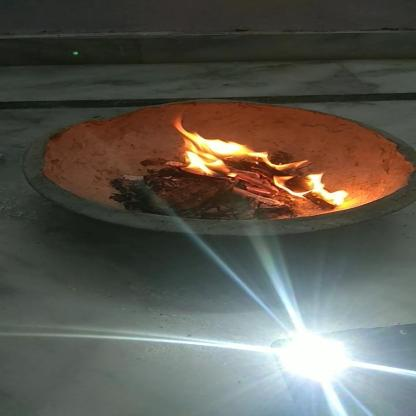fire: (166, 116, 274, 182), (292, 168, 353, 208)
